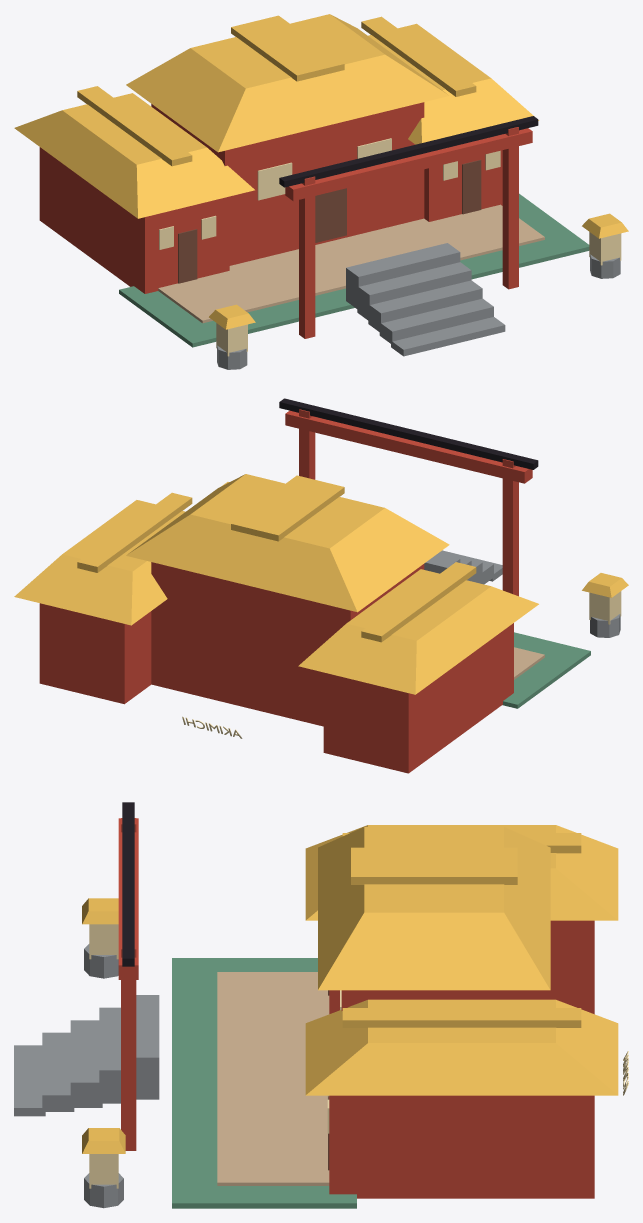
The model's file is 05_akimichi.glb.
3 views of the same model, one above another, from view 1: azimuth 30°, elevation 25°; view 2: azimuth 150°, elevation 25°; view 3: azimuth 270°, elevation 25° (orthographic). The views are drawn at different scales.
Visible parts, largest first — view 1: main_roof.001, main_body.001, wing_roof.002, wide_plaza, wing_body.002, courtyard_floor.001, wing_roof.003, torii_beam.004, main_ridge.001, torii_lintel.004, wing_body.003, stairs_4.004 (+18 smaller); view 2: main_roof.001, main_body.001, wing_body.002, wing_roof.002, wing_body.003, wing_roof.003, torii_beam.004, main_ridge.001, torii_lintel.004, courtyard_floor.001, wing_ridge.002, wing_ridge.003 (+6 smaller); view 3: main_roof.001, wing_body.003, wing_roof.003, wide_plaza, courtyard_floor.001, wing_roof.002, main_ridge.001, wing_ridge.003, wing_body.002, torii_post_R.004, stairs_2.004, stairs_4.004 (+13 smaller).
Boxes of the visible parts, x1=… form: main_roof.001: x1=126, y1=14, x2=449, y2=152; main_body.001: x1=151, y1=102, x2=424, y2=265; wing_roof.002: x1=14, y1=93, x2=254, y2=218; wide_plaza: x1=158, y1=204, x2=544, y2=323; wing_body.002: x1=39, y1=147, x2=229, y2=293; courtyard_floor.001: x1=119, y1=193, x2=589, y2=347; wing_roof.003: x1=368, y1=23, x2=539, y2=144; torii_beam.004: x1=285, y1=128, x2=532, y2=201; main_ridge.001: x1=231, y1=15, x2=344, y2=81; torii_lintel.004: x1=279, y1=116, x2=538, y2=187; wing_body.003: x1=424, y1=150, x2=502, y2=221; stairs_4.004: x1=346, y1=243, x2=460, y2=308; main_roof.001: x1=126, y1=474, x2=449, y2=612; main_body.001: x1=151, y1=562, x2=424, y2=726; wing_body.002: x1=323, y1=623, x2=513, y2=773; wing_roof.002: x1=298, y1=569, x2=538, y2=694; wing_body.003: x1=39, y1=603, x2=151, y2=704; wing_roof.003: x1=14, y1=500, x2=185, y2=625; torii_beam.004: x1=285, y1=410, x2=532, y2=483; main_ridge.001: x1=231, y1=475, x2=344, y2=541; torii_lintel.004: x1=279, y1=398, x2=538, y2=469; courtyard_floor.001: x1=502, y1=632, x2=590, y2=708; wing_ridge.002: x1=361, y1=562, x2=476, y2=642; wing_ridge.003: x1=77, y1=492, x2=192, y2=572; main_roof.001: x1=318, y1=827, x2=550, y2=990; wing_body.003: x1=329, y1=1095, x2=594, y2=1198; wing_roof.003: x1=305, y1=999, x2=618, y2=1095; wide_plaza: x1=217, y1=972, x2=329, y2=1185; courtyard_floor.001: x1=172, y1=958, x2=356, y2=1208; wing_roof.002: x1=305, y1=825, x2=618, y2=920; main_ridge.001: x1=351, y1=847, x2=517, y2=884; wing_ridge.003: x1=342, y1=1008, x2=581, y2=1027; wing_body.002: x1=329, y1=920, x2=594, y2=1014; torii_post_R.004: x1=121, y1=943, x2=136, y2=1150; stairs_2.004: x1=70, y1=1020, x2=102, y2=1107; stairs_4.004: x1=136, y1=995, x2=159, y2=1099.
Bounding box in the file's own units: 12.36 × 5.19 × 12.95.
